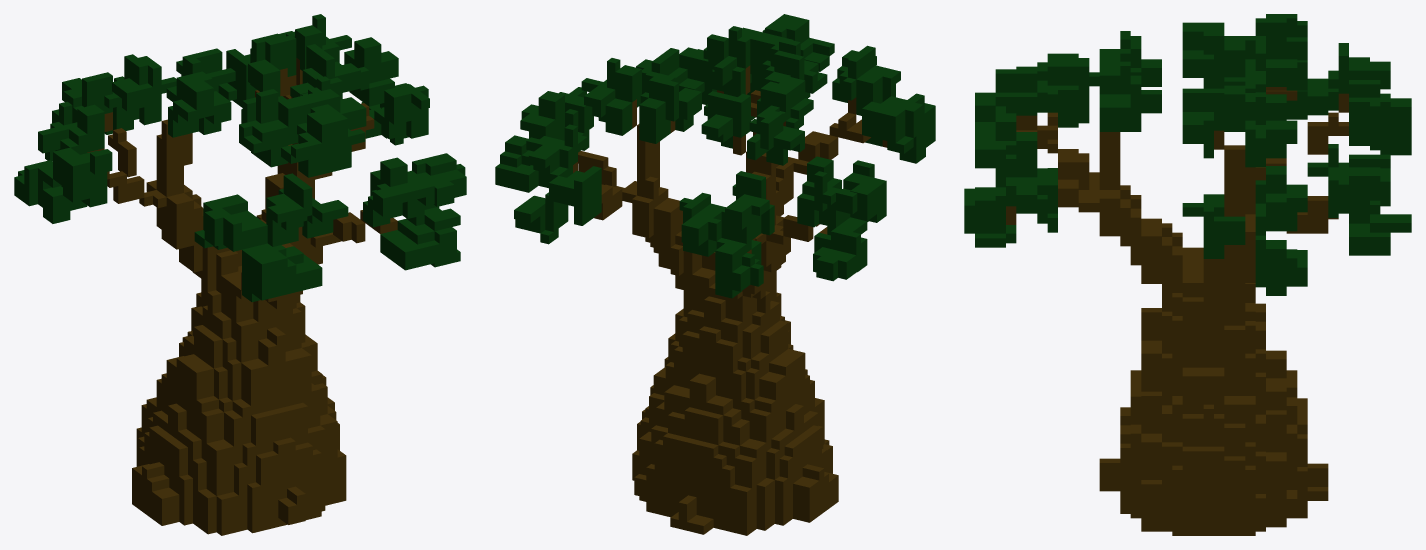
The model's file is Shrub1-1-1.obj.
3 renders of one model, left to right at view 1: azimuth 30°, elevation 25°; view 2: azimuth 150°, elevation 25°; view 3: azimuth 270°, elevation 25°, orthographic. The views are drawn at different scales.
Parts seen in each view (by area): view 1: 1; view 2: 1; view 3: 1.
Boxes of the visible parts, bbox=[...] form: 1: bbox=[14, 14, 466, 535]; 1: bbox=[495, 14, 935, 535]; 1: bbox=[964, 14, 1411, 535].
Size of the model in its own units: 4.3 by 4.8 by 4.3.
Materials: 1 (1 with a texture image).
